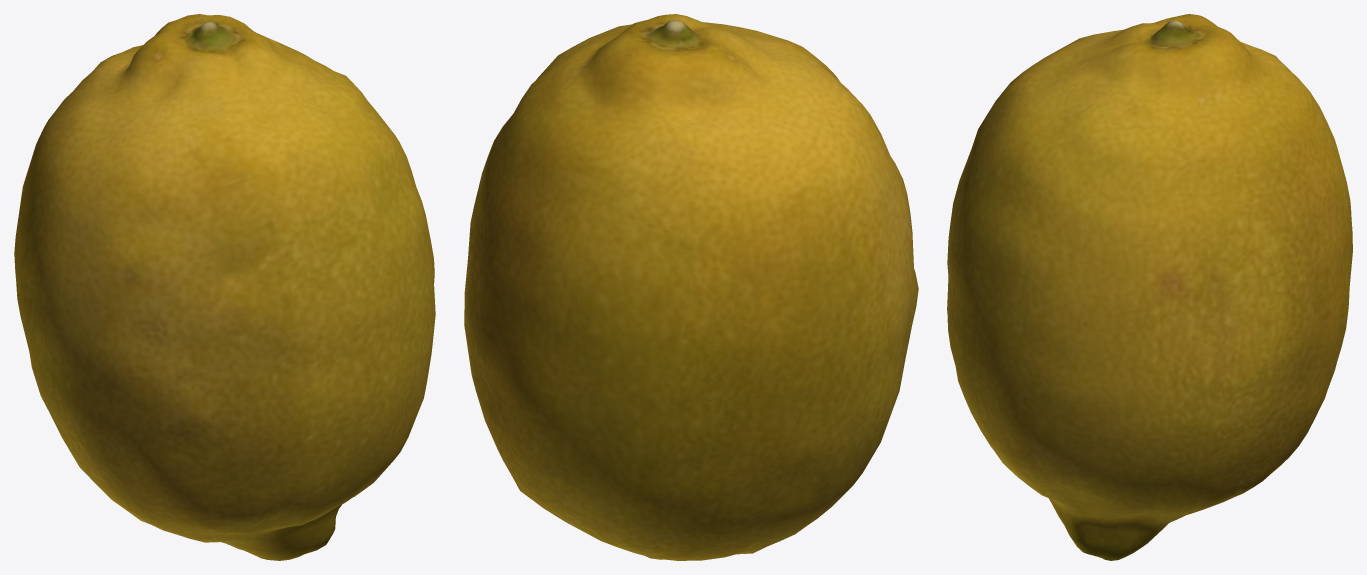
Rendered from lemon.glb.
The picture shows the model from 3 angles, left to right: view 1: azimuth 30°, elevation 25°; view 2: azimuth 150°, elevation 25°; view 3: azimuth 270°, elevation 25°; orthographic projection. The views are drawn at different scales.
Parts seen in each view (by area): view 1: lemon; view 2: lemon; view 3: lemon.
Boxes of the visible parts, x1=… form: lemon: x1=14, y1=14, x2=435, y2=560; lemon: x1=464, y1=14, x2=918, y2=560; lemon: x1=947, y1=14, x2=1352, y2=560.
Bounding box in the file's own units: 0.0687 × 0.0954 × 0.0683.
1 material, 1 textured.
